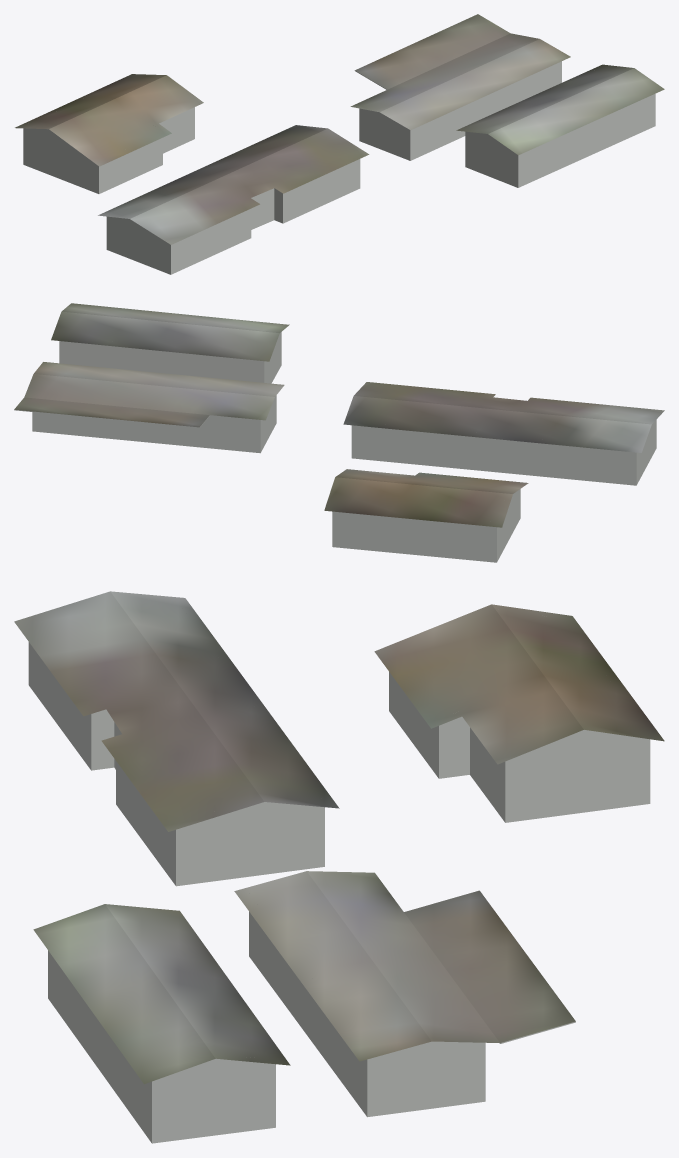
The model's file is LSGS_-3_-1.glb.
3 renders of one model, top to bottom at view 1: azimuth 30°, elevation 25°; view 2: azimuth 150°, elevation 25°; view 3: azimuth 270°, elevation 25°, orthographic. The views are drawn at different scales.
Visible parts, largest first — view 1: building_ee85c27bc52641c3, building_4dbce219c71291be; view 2: building_ee85c27bc52641c3, building_4dbce219c71291be; view 3: building_ee85c27bc52641c3, building_4dbce219c71291be.
Part boxes in pixels (x1,y1,x2,y2): building_ee85c27bc52641c3: [15, 14, 664, 244]; building_4dbce219c71291be: [23, 61, 655, 274]; building_ee85c27bc52641c3: [14, 303, 664, 527]; building_4dbce219c71291be: [14, 332, 656, 562]; building_ee85c27bc52641c3: [14, 591, 664, 1084]; building_4dbce219c71291be: [28, 642, 650, 1143].
Bounding box in the file's own units: 97.85 × 9.04 × 55.55.
2 materials, 1 textured.
